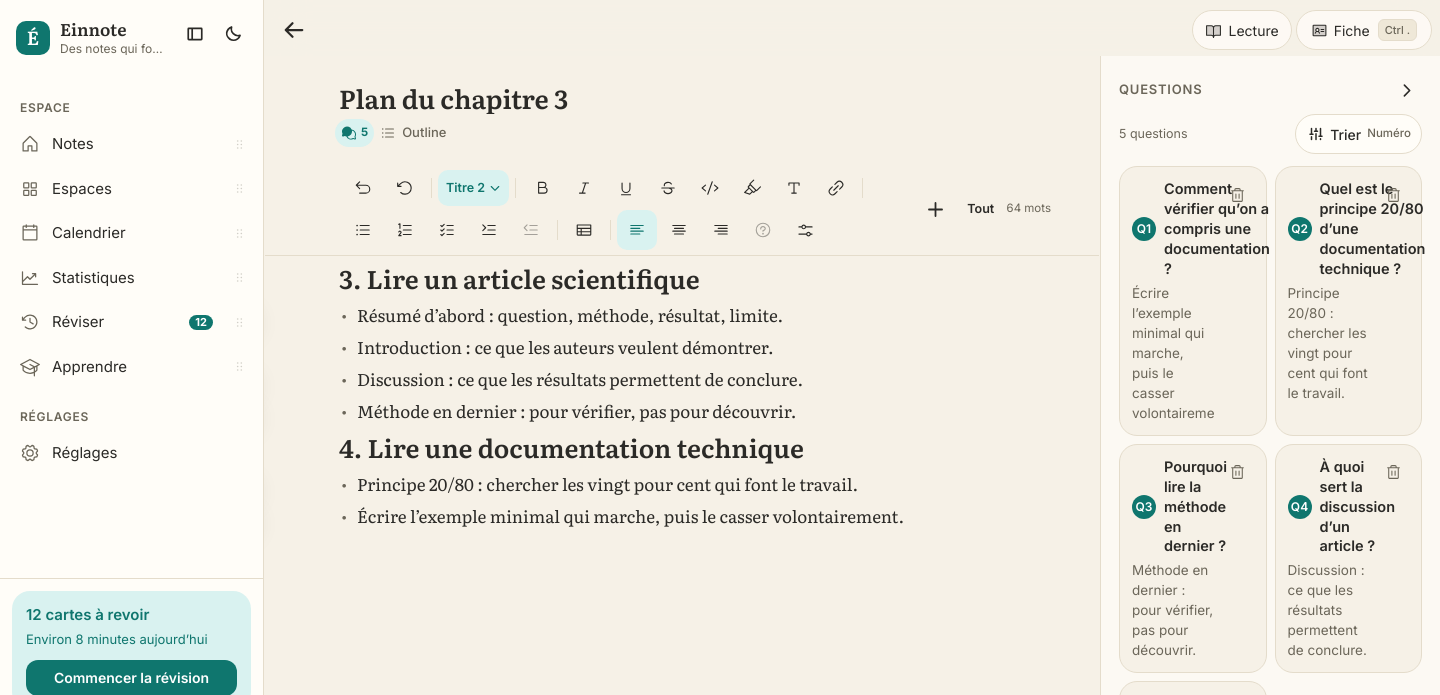
Test case: Liens de notes › dessine le lien, et distingue un lien mort
Click the text box named "Contenu de la note": (622, 394) [339,259,904,528]
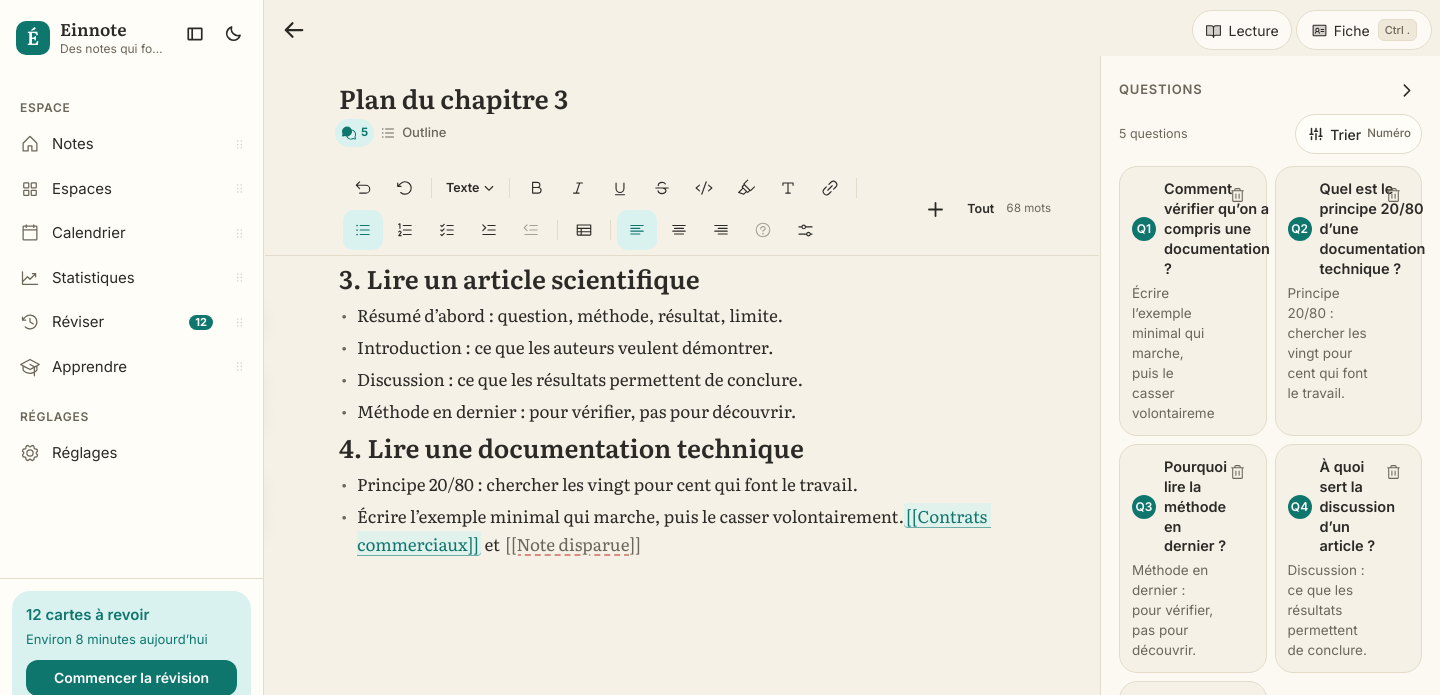
Check: the text box labelled "[ [Note disparue]]" is shown, box [503,531,643,556]
